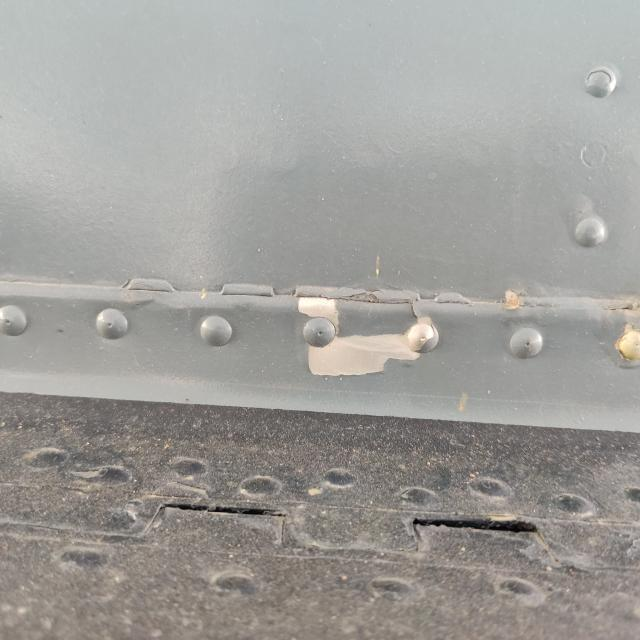Paint-off: (297, 286, 440, 376)
